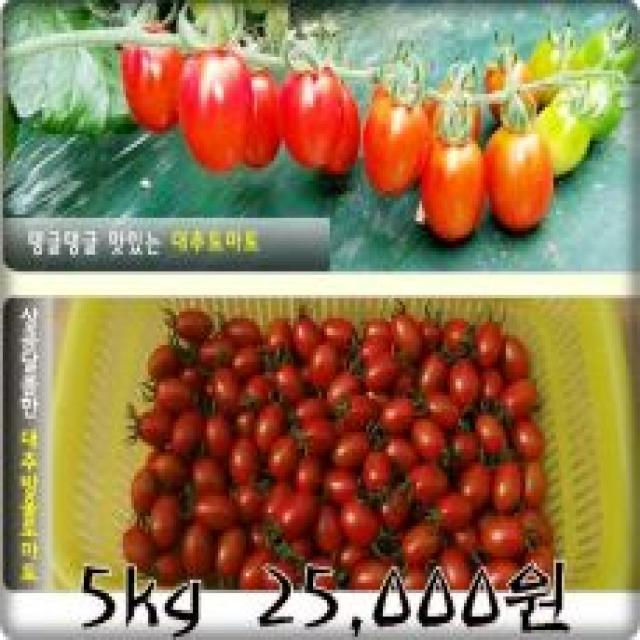level 1: (563, 70, 628, 166)
level 2: (523, 90, 597, 188), (520, 17, 582, 98), (572, 25, 637, 92)
level 4: (485, 36, 540, 138)
level 5: (475, 118, 555, 239), (414, 130, 490, 247), (359, 72, 421, 211), (373, 42, 429, 136), (434, 64, 481, 144)
level 6: (160, 52, 257, 181), (264, 48, 343, 180), (114, 24, 201, 142), (204, 60, 292, 174), (308, 74, 367, 202)
